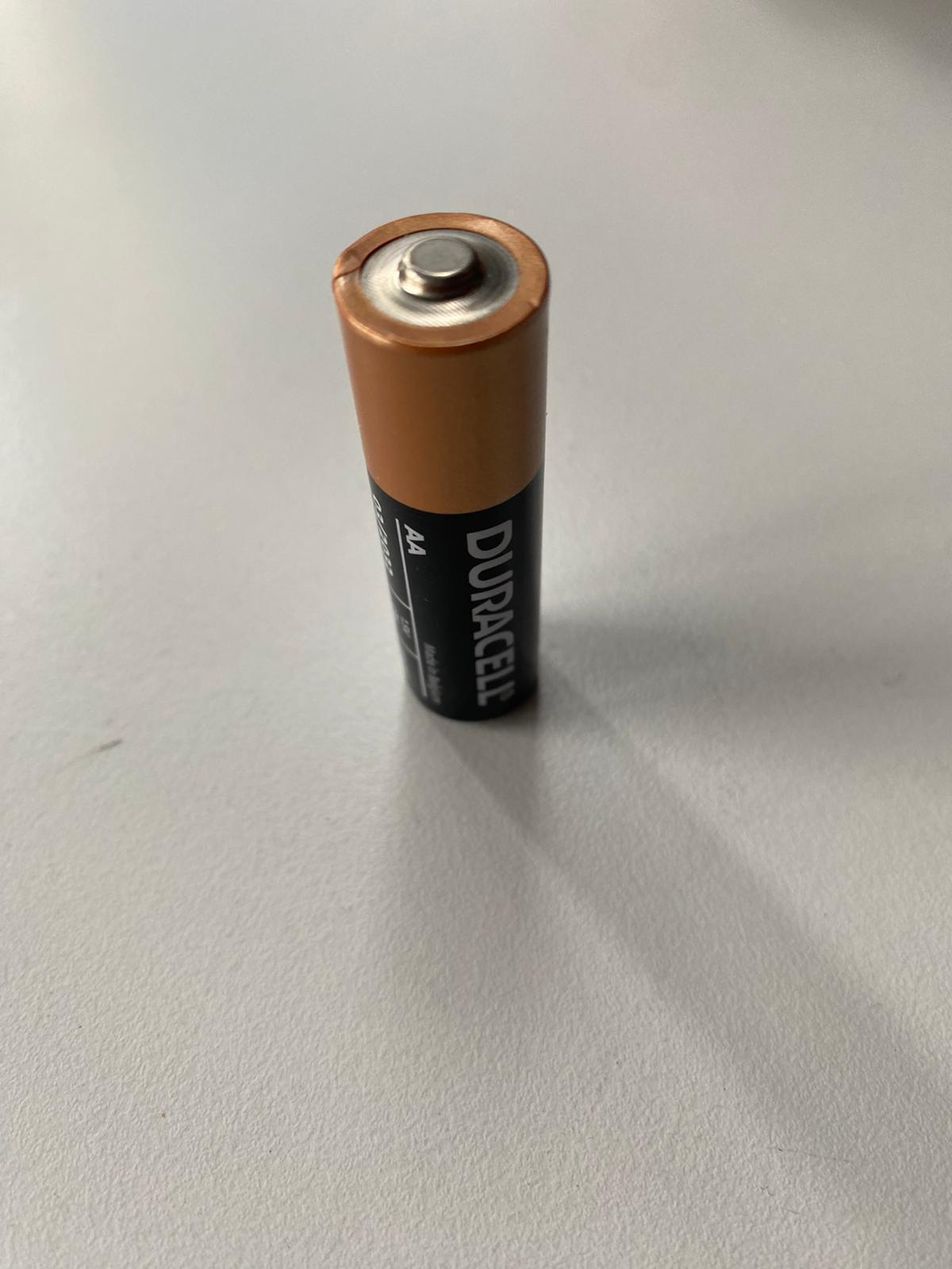AA: (327, 201, 556, 731)
